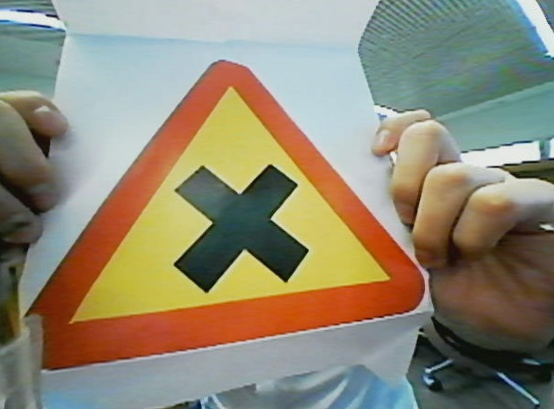junction: (20, 53, 434, 372)
